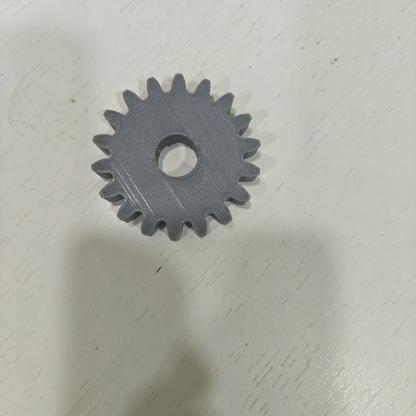gear: (82, 66, 275, 257)
